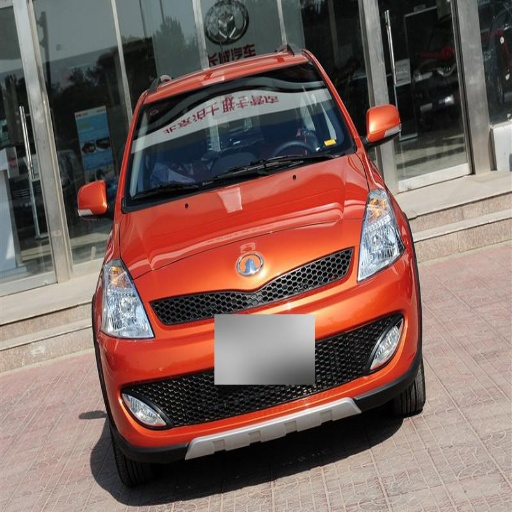front_bumper: (103, 245, 418, 456)
front_right_light: (108, 293, 147, 336)
hood: (227, 154, 374, 263)
left_mirror: (366, 106, 401, 146)
trunk: (101, 187, 295, 349)
